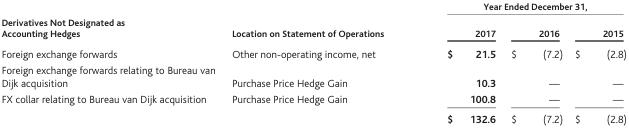table: (0, 0, 625, 124)
table column: (0, 0, 222, 124), (222, 0, 414, 124), (414, 0, 502, 124), (502, 0, 568, 124), (568, 0, 625, 124)
table column header: (0, 0, 625, 42)
table row: (0, 61, 625, 90), (0, 19, 625, 42), (0, 0, 625, 19), (0, 42, 625, 61), (0, 90, 625, 108), (0, 108, 625, 124)
table spanning cell: (0, 0, 222, 42), (222, 0, 414, 42), (0, 90, 222, 124), (414, 0, 625, 19)
